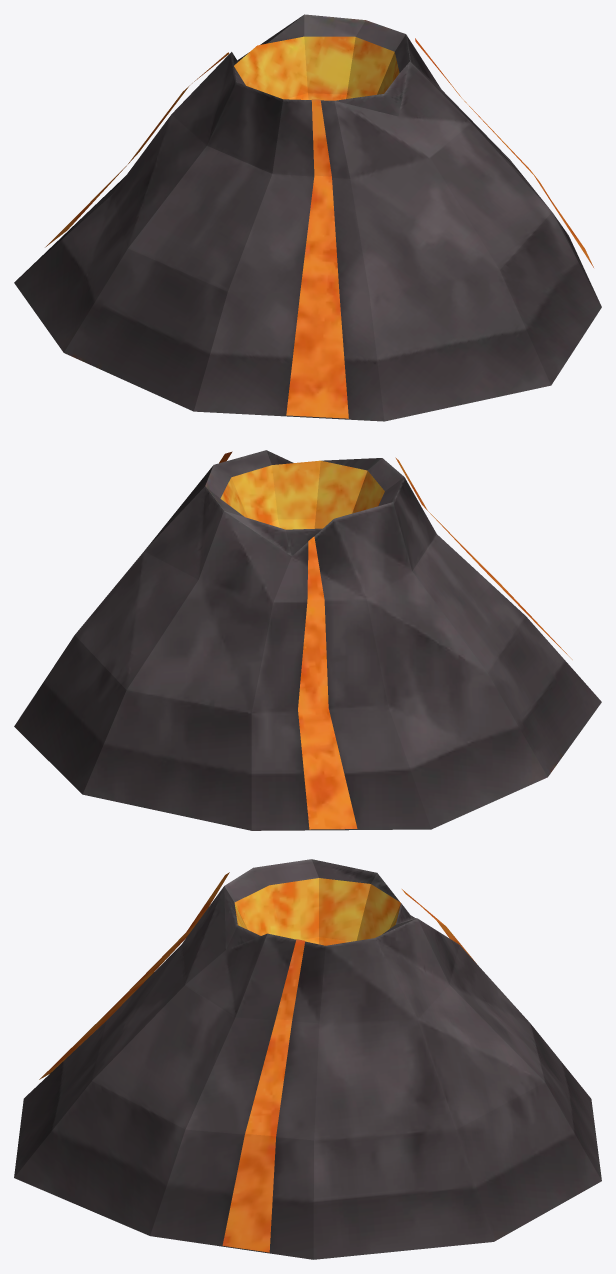
Rendered from volcano_cone.glb.
3 views of the same model, one above another, from view 1: azimuth 30°, elevation 25°; view 2: azimuth 150°, elevation 25°; view 3: azimuth 270°, elevation 25° (orthographic). The views are drawn at different scales.
Parts seen in each view (by area): view 1: Static_Mesh; view 2: Static_Mesh; view 3: Static_Mesh.
Boxes of the visible parts, left/top/right/bottom form: Static_Mesh: left=14, top=14, right=601, bottom=421; Static_Mesh: left=14, top=450, right=601, bottom=830; Static_Mesh: left=14, top=859, right=601, bottom=1259.
Size of the model in its own units: 3.59 by 1.65 by 3.64.
1 material, 1 textured.
